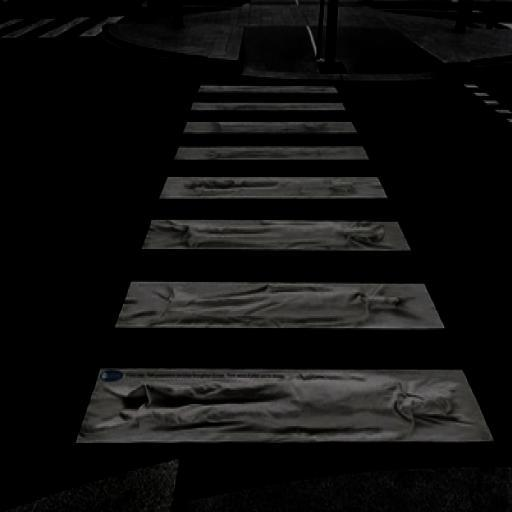crosswalk: (110, 213, 451, 342), (168, 116, 376, 166)
